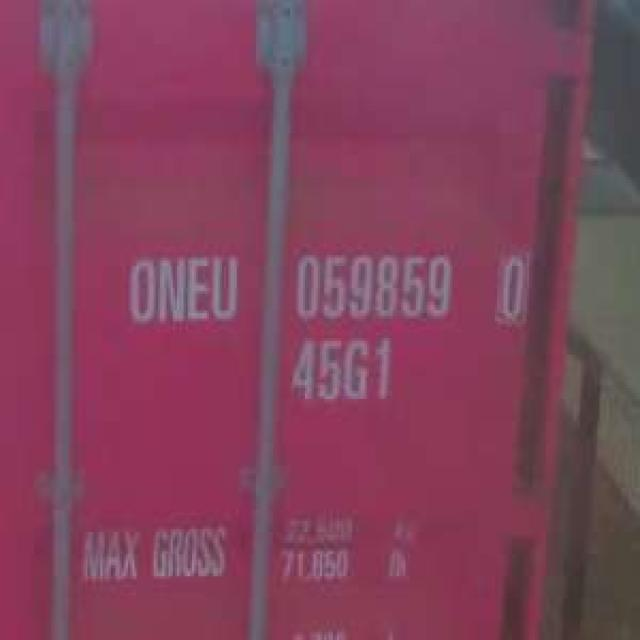dv: (488, 245, 532, 329)
owner: (119, 244, 244, 326)
serial: (292, 247, 457, 325)
size: (286, 333, 403, 408)
